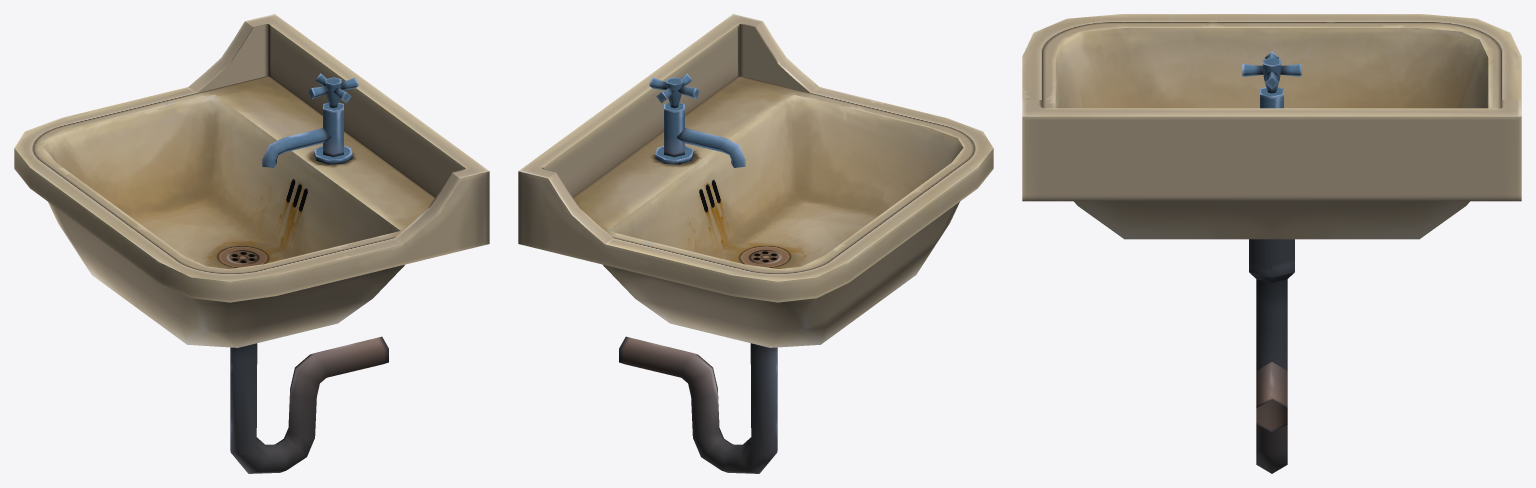
The model's file is sink_makeshift01.fbx.
The picture shows the model from 3 angles, left to right: view 1: azimuth 30°, elevation 25°; view 2: azimuth 150°, elevation 25°; view 3: azimuth 270°, elevation 25°; orthographic projection. The views are drawn at different scales.
Parts seen in each view (by area): view 1: sink_makeshift01, sink_drain, sink_tap; view 2: sink_makeshift01, sink_drain, sink_tap; view 3: sink_makeshift01, sink_drain, sink_tap.
Part boxes in pixels (<box>): sink_makeshift01: <box>14,14,489,375</box>; sink_drain: <box>230,336,388,473</box>; sink_tap: <box>262,73,358,167</box>; sink_makeshift01: <box>518,14,993,375</box>; sink_drain: <box>619,336,777,473</box>; sink_tap: <box>649,73,745,167</box>; sink_makeshift01: <box>1022,14,1521,327</box>; sink_drain: <box>1256,324,1287,473</box>; sink_tap: <box>1242,51,1301,108</box>.
Size of the model in its own units: 0.58 by 0.7294 by 0.7502.
